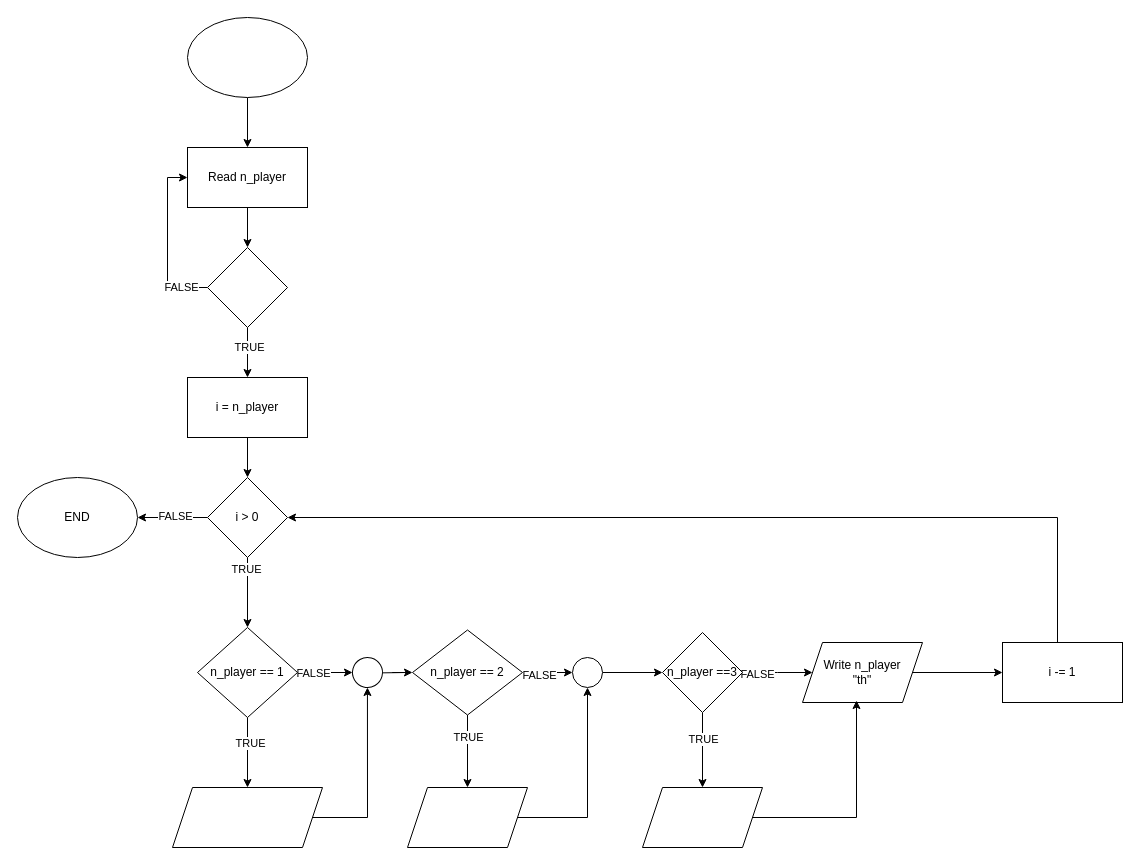
This 1140x865 diagram has some shape labels left out. The box of each missing label's shape, as (x1, y1, x2, y2) in pixels:
n_player > 0 AND n_player %1==0: (206, 246, 288, 328)
START: (186, 16, 308, 98)
Write n_player "nd": (406, 786, 528, 848)
Write n_player "rd": (642, 786, 762, 848)
Write n_player "st": (172, 786, 322, 848)
